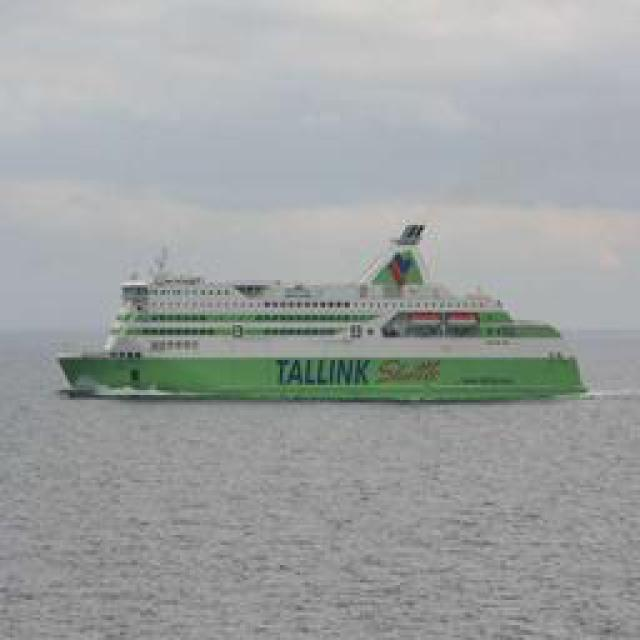Ship: (53, 219, 591, 402)
